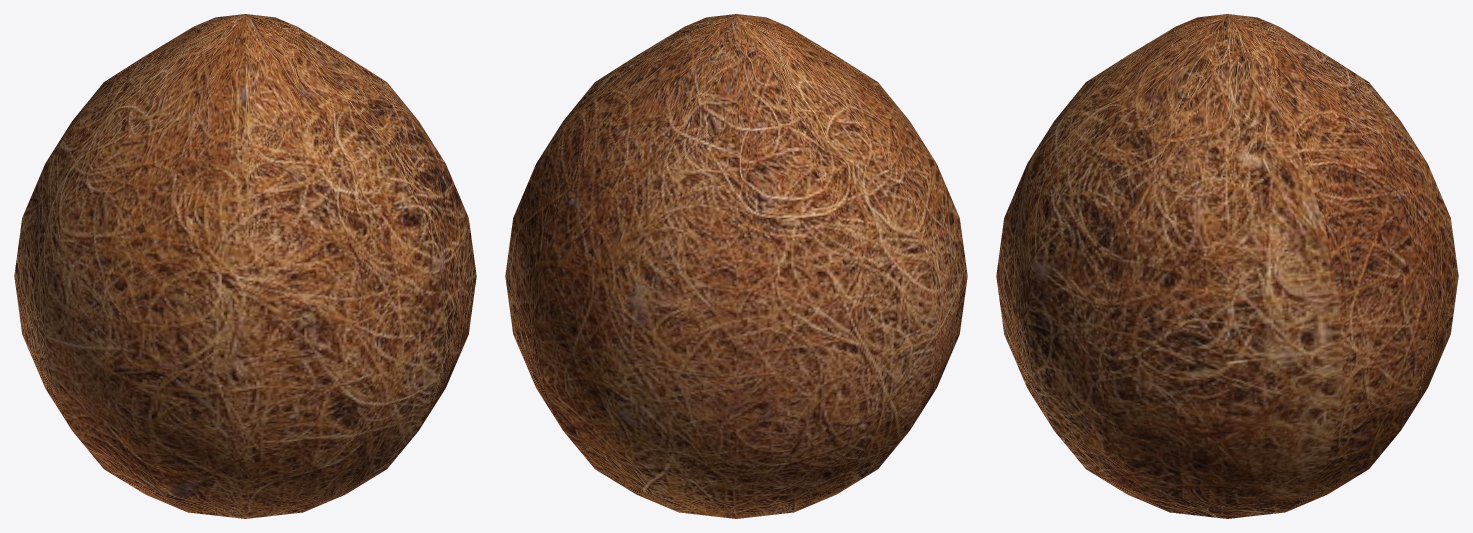
The model's file is Coconut.fbx.
The picture shows the model from 3 angles, left to right: view 1: azimuth 30°, elevation 25°; view 2: azimuth 150°, elevation 25°; view 3: azimuth 270°, elevation 25°; orthographic projection.
Parts seen in each view (by area): view 1: Coconut; view 2: Coconut; view 3: Coconut.
Part boxes in pixels (x1,y1,x2,y2): Coconut: [14, 14, 476, 518]; Coconut: [505, 14, 967, 518]; Coconut: [996, 14, 1458, 518].
Size of the model in its own units: 2 by 2.31 by 2.
Materials: 1 (1 with a texture image).
